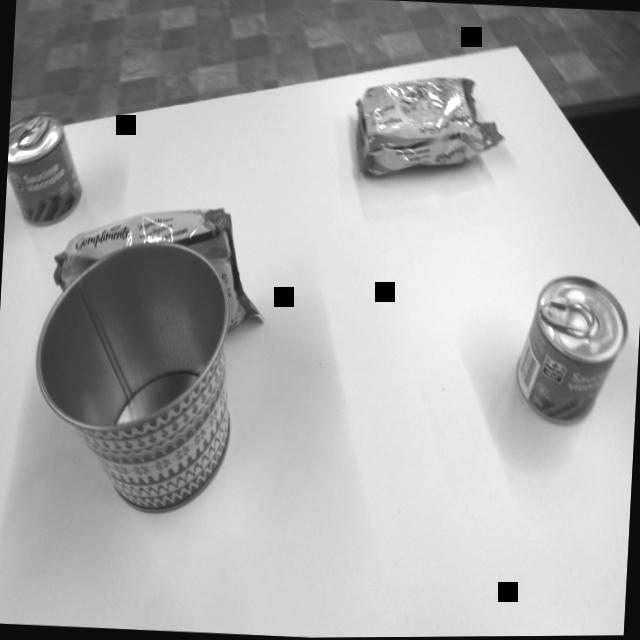noodles: (343, 67, 511, 194)
sausages: (508, 268, 634, 435)
